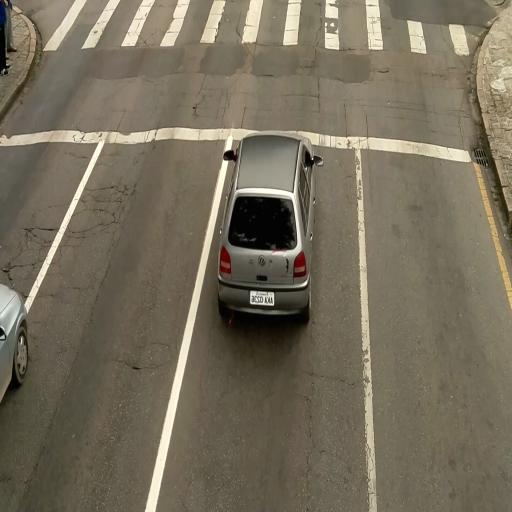car: (214, 126, 323, 326), (0, 281, 29, 411)
